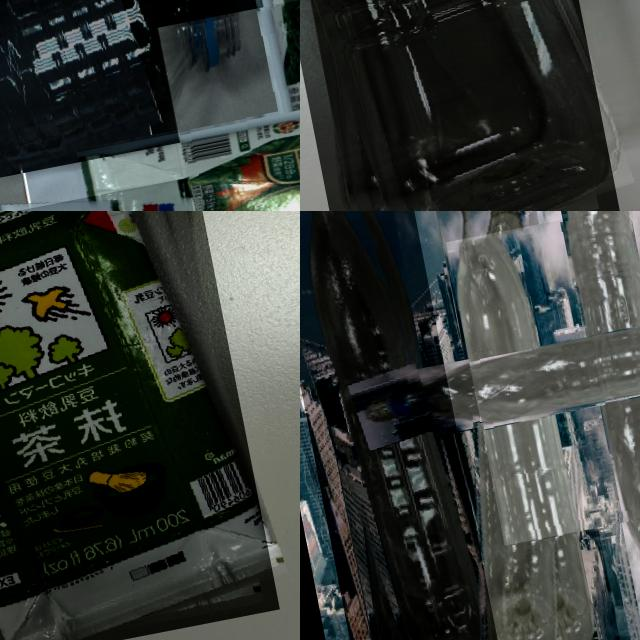Aluminium Foil: (0, 211, 280, 640), (158, 0, 300, 211), (0, 160, 300, 211)
Transparent Plastic Bottle: (401, 211, 621, 640), (300, 211, 512, 640), (300, 0, 620, 211), (446, 211, 640, 545), (0, 0, 287, 198)
